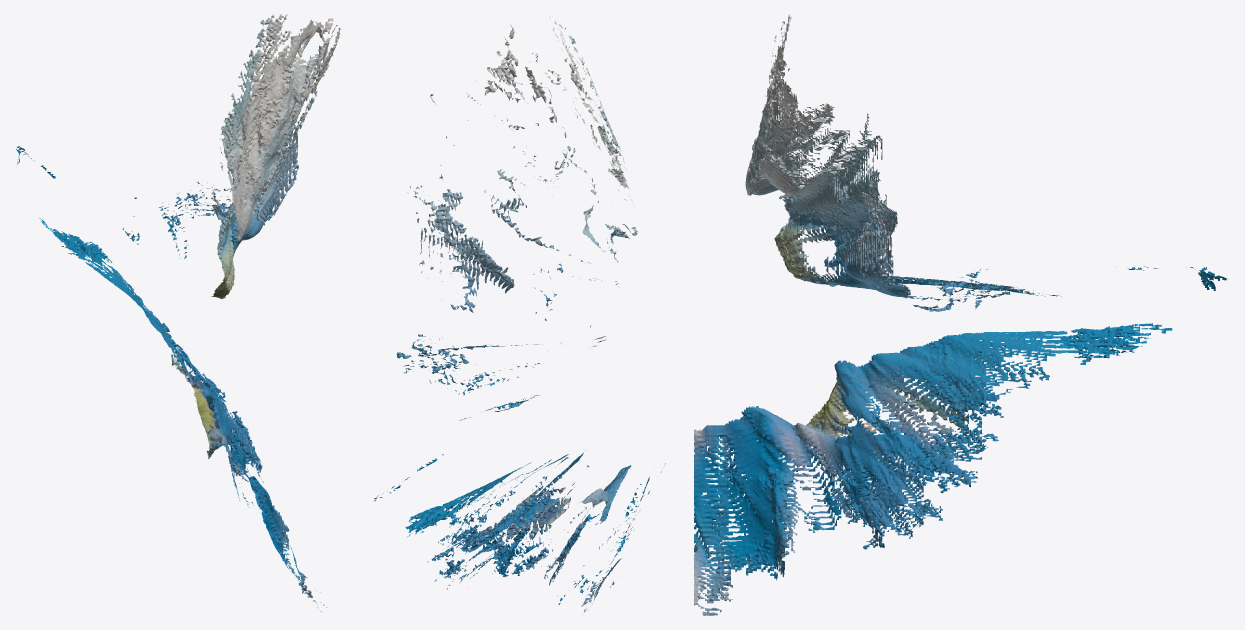
The model's file is hunyuan_scene_001_module_r0_c1.glb.
3 renders of one model, left to right at view 1: azimuth 30°, elevation 25°; view 2: azimuth 150°, elevation 25°; view 3: azimuth 270°, elevation 25°, orthographic. The views are drawn at different scales.
Parts seen in each view (by area): view 1: hunyuan_scene_001_module; view 2: hunyuan_scene_001_module; view 3: hunyuan_scene_001_module.
Boxes of the visible parts, x1,y1,x2,y2 form: hunyuan_scene_001_module: [16, 14, 340, 612]; hunyuan_scene_001_module: [374, 16, 665, 612]; hunyuan_scene_001_module: [694, 14, 1228, 615].
Size of the model in its own units: 4.07 by 15.15 by 12.4.
